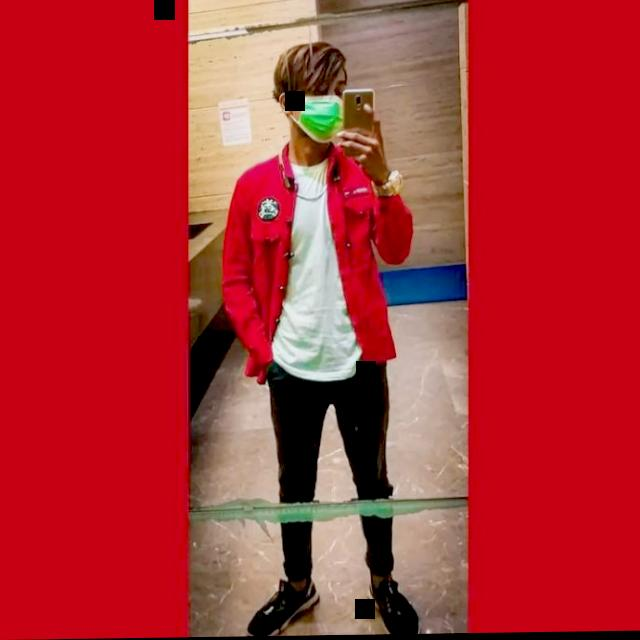Mask: (298, 76, 348, 146)
